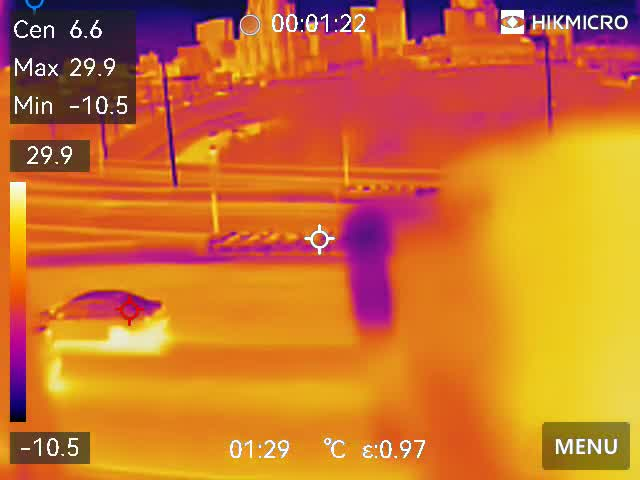smallCar: (34, 283, 175, 344)
